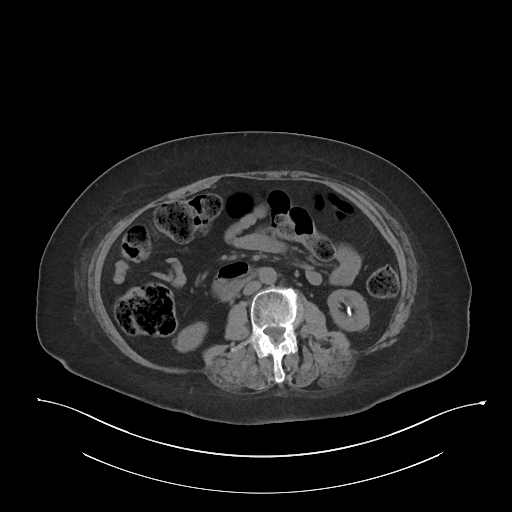Lesion: (344, 300, 355, 321)
